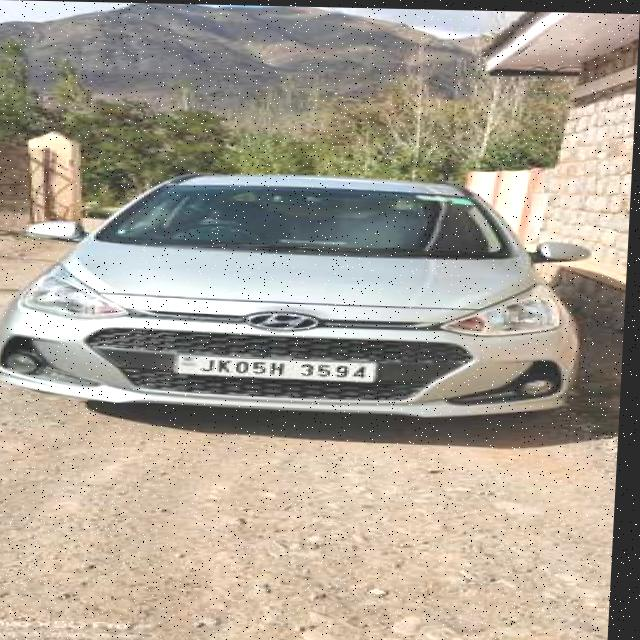plate: (175, 352, 383, 380)
